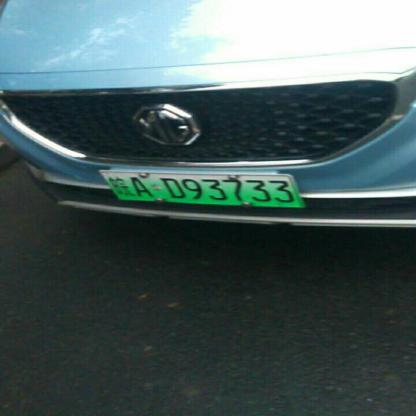lp: (100, 171, 300, 206)
